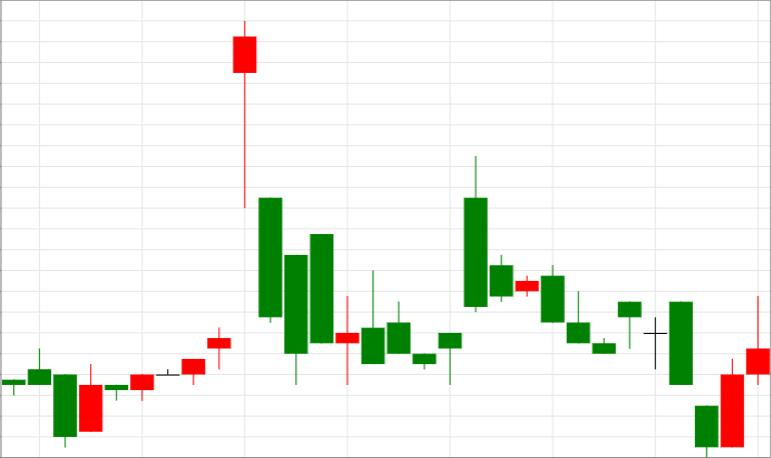hanging_man_fall: (79, 21, 256, 431)
